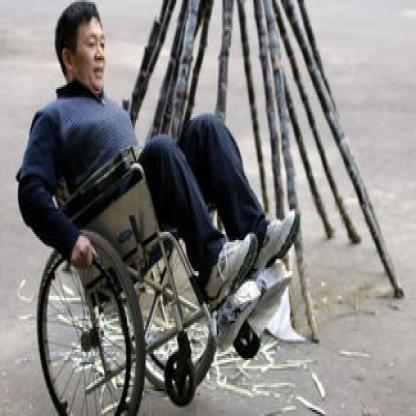wheelchair: (15, 2, 302, 410)
